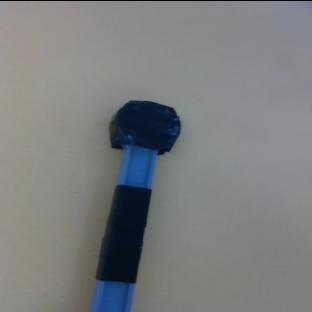part_3_bad: (60, 91, 186, 312)
